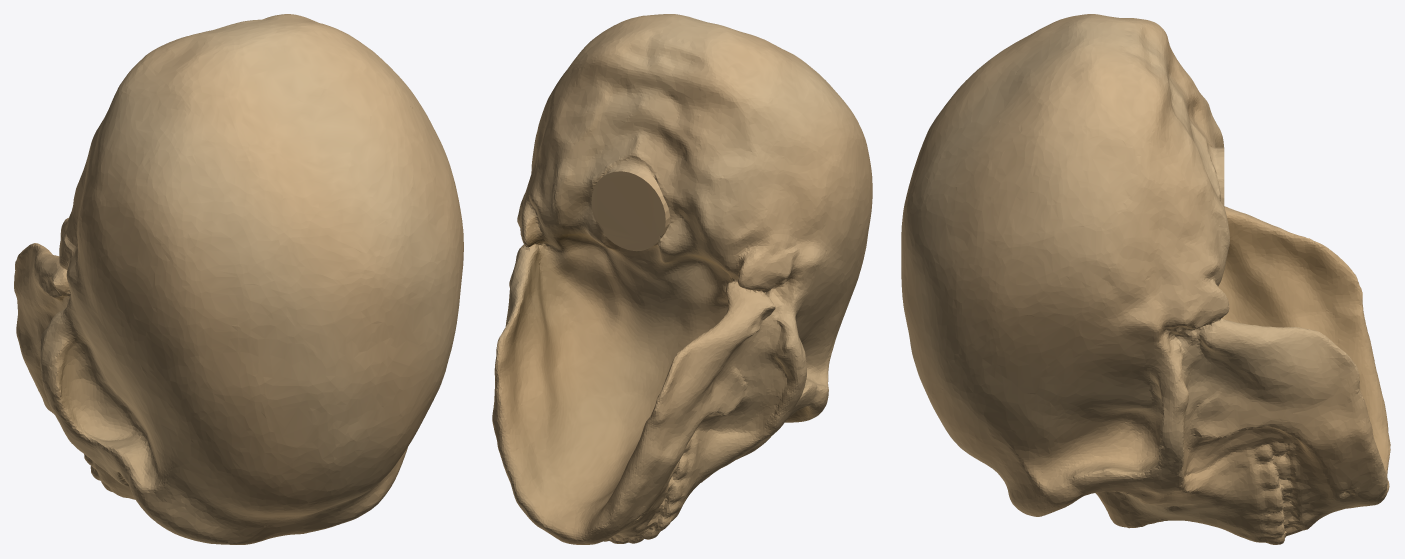
The model's file is neanderthalensis.glb.
3 renders of one model, left to right at view 1: azimuth 30°, elevation 25°; view 2: azimuth 150°, elevation 25°; view 3: azimuth 270°, elevation 25°, orthographic. The views are drawn at different scales.
Size of the model in its own units: 38.01 by 55.66 by 48.94.
